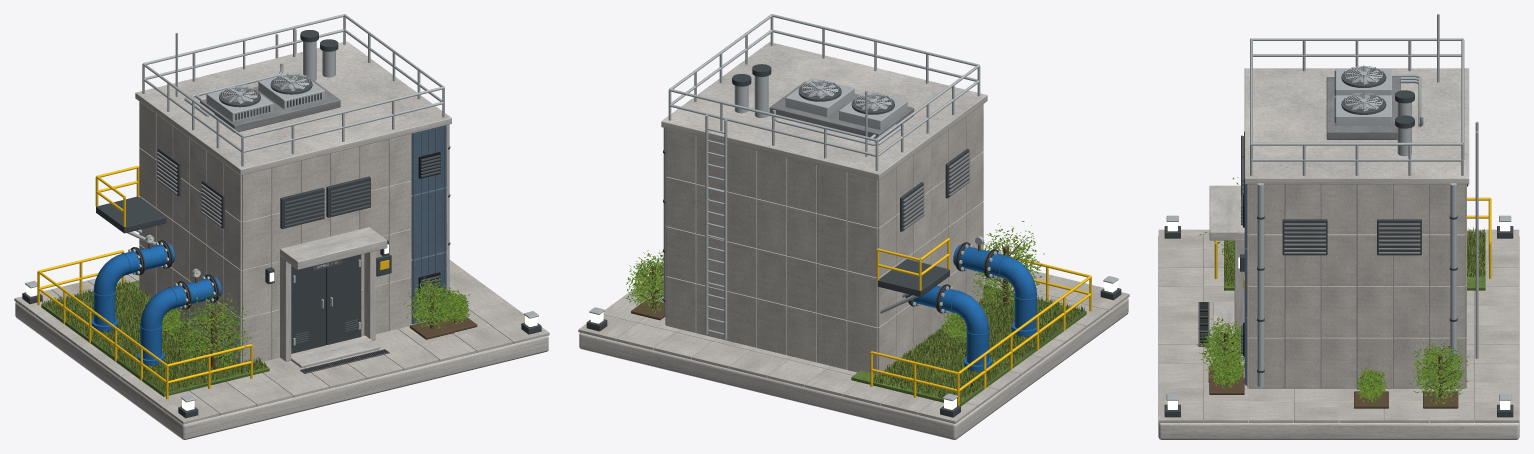
File: estacion_bombeo.fbx
The picture shows the model from 3 angles, left to right: view 1: azimuth 30°, elevation 25°; view 2: azimuth 150°, elevation 25°; view 3: azimuth 270°, elevation 25°; orthographic projection. The views are drawn at different scales.
Visible parts, largest first — view 1: Cubierta, Base de cimentación, Pradera, Jardín hidráulico, Hoja puerta.001, Hoja puerta, Follaje, Marquesina, Impulsión azul.001, Paño de chapa plegada.001, Impulsión azul, Paño de chapa plegada.002 (+65 smaller); view 2: Cubierta, Base de cimentación, Pradera, Jardín hidráulico, Impulsión azul, Impulsión azul.001, Follaje, Bancada, Plataforma, Panel de fachada.054, Panel de fachada.041, Panel de fachada.053 (+70 smaller); view 3: Cubierta, Base de cimentación, Follaje.004, Panel lateral.028, Panel lateral.029, Panel lateral.032, Panel lateral.033, Panel lateral.037, Panel lateral.041, Marquesina, Panel lateral.034, Panel lateral.035 (+77 smaller).
Boxes of the visible parts, bbox=[...] form: Cubierta: bbox=[135, 41, 451, 175]; Base de cimentación: bbox=[15, 302, 548, 439]; Pradera: bbox=[42, 278, 266, 392]; Jardín hidráulico: bbox=[41, 280, 269, 396]; Hoja puerta.001: bbox=[326, 254, 361, 344]; Hoja puerta: bbox=[291, 265, 325, 353]; Follaje: bbox=[174, 287, 256, 371]; Marquesina: bbox=[280, 227, 387, 269]; Impulsión azul.001: bbox=[93, 242, 174, 332]; Paño de chapa plegada.001: bbox=[411, 188, 446, 259]; Impulsión azul: bbox=[140, 277, 221, 359]; Paño de chapa plegada.002: bbox=[411, 125, 446, 195]; Cubierta: bbox=[661, 42, 987, 179]; Base de cimentación: bbox=[579, 298, 1128, 439]; Pradera: bbox=[873, 284, 1084, 402]; Jardín hidráulico: bbox=[851, 290, 1086, 406]; Impulsión azul: bbox=[953, 245, 1036, 336]; Impulsión azul.001: bbox=[905, 285, 988, 371]; Follaje: bbox=[969, 221, 1044, 314]; Bancada: bbox=[769, 81, 914, 141]; Plataforma: bbox=[877, 259, 949, 296]; Panel de fachada.054: bbox=[666, 176, 696, 233]; Panel de fachada.041: bbox=[756, 248, 786, 305]; Panel de fachada.053: bbox=[666, 226, 696, 282]; Cubierta: bbox=[1244, 68, 1469, 184]; Base de cimentación: bbox=[1158, 234, 1519, 439]; Follaje.004: bbox=[1409, 339, 1469, 405]; Panel lateral.028: bbox=[1285, 337, 1320, 388]; Panel lateral.029: bbox=[1285, 286, 1320, 337]; Panel lateral.032: bbox=[1321, 337, 1356, 388]; Panel lateral.033: bbox=[1321, 286, 1356, 337]; Panel lateral.037: bbox=[1357, 286, 1392, 337]; Panel lateral.041: bbox=[1393, 286, 1428, 337]; Marquesina: bbox=[1209, 185, 1244, 240]; Panel lateral.034: bbox=[1321, 234, 1356, 285]; Panel lateral.035: bbox=[1321, 184, 1356, 234].
Bounding box in the file's own units: 10 × 7.35 × 8.
28 materials, 9 textured.
